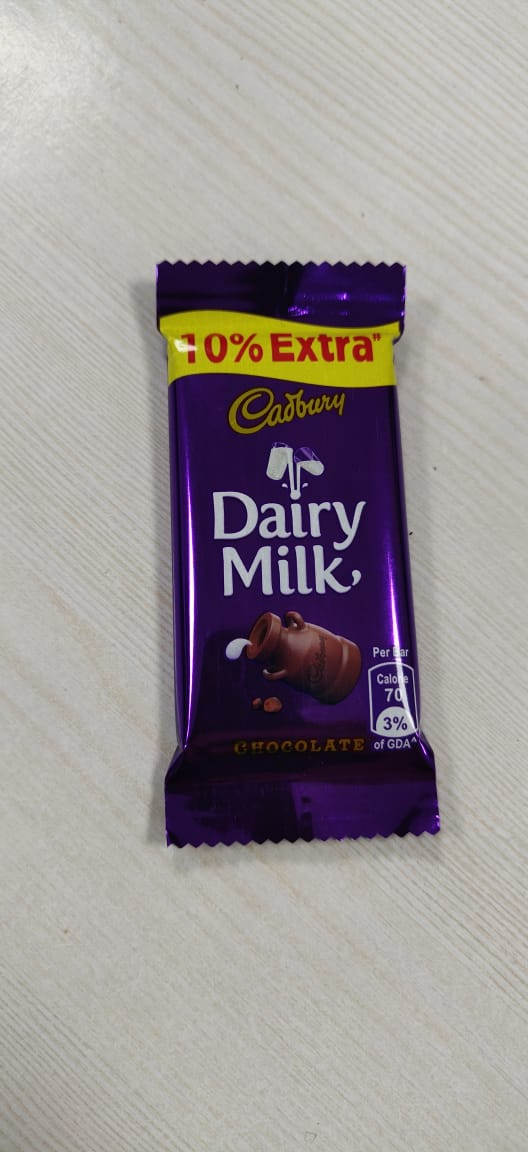dairy milk: (133, 244, 469, 865)
